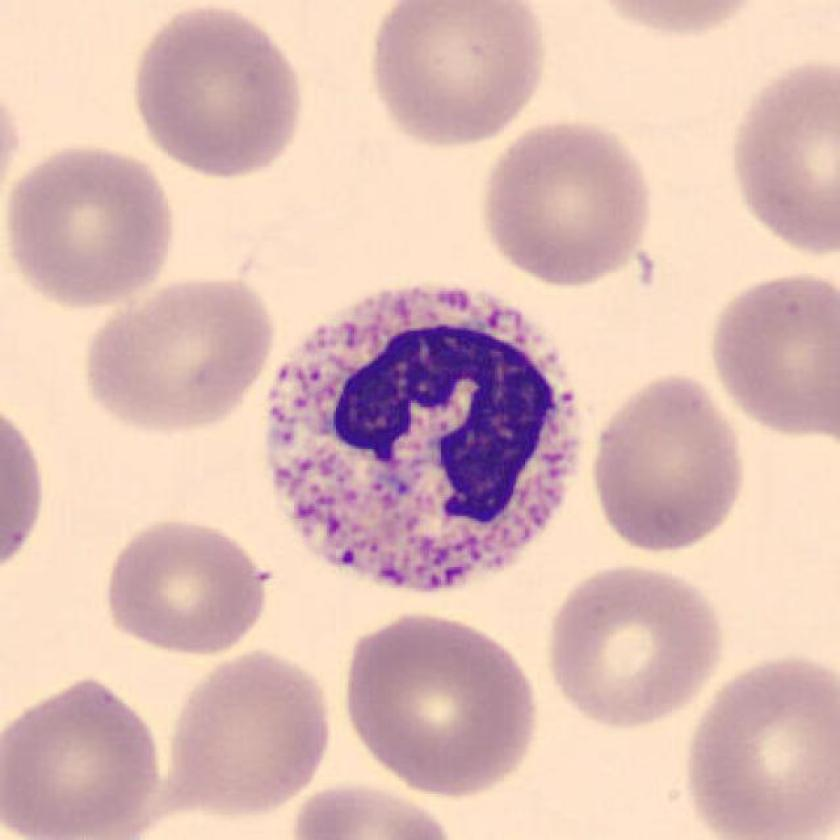neutrophil: (266, 283, 577, 592)
